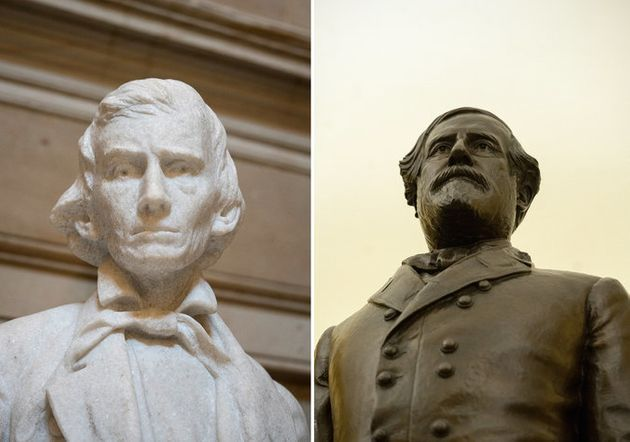person-like: (1, 77, 310, 442), (314, 104, 630, 437)
